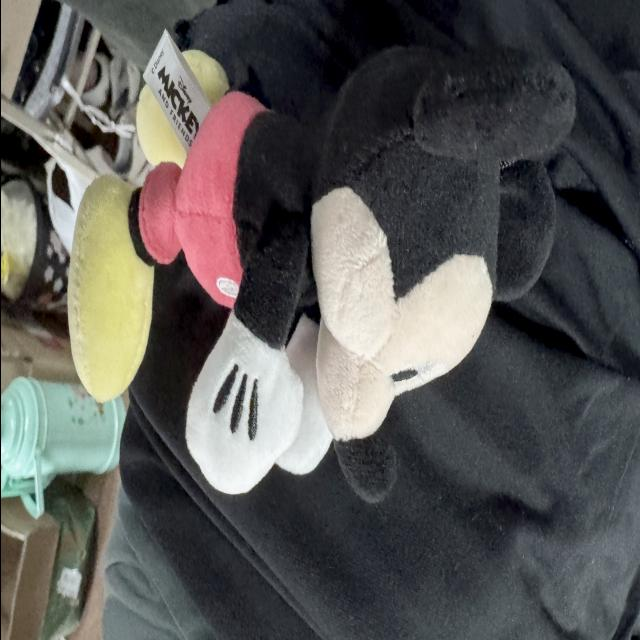mickey: (68, 49, 573, 497)
